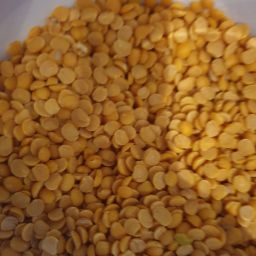Pigeon Pea(toor daal): (4, 9, 256, 256), (57, 28, 256, 256), (17, 56, 169, 256), (83, 78, 256, 248)
